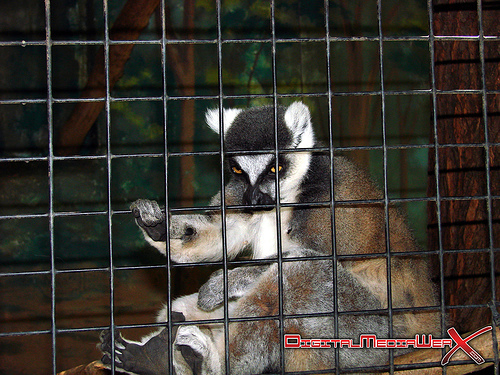cat: (99, 100, 443, 373)
